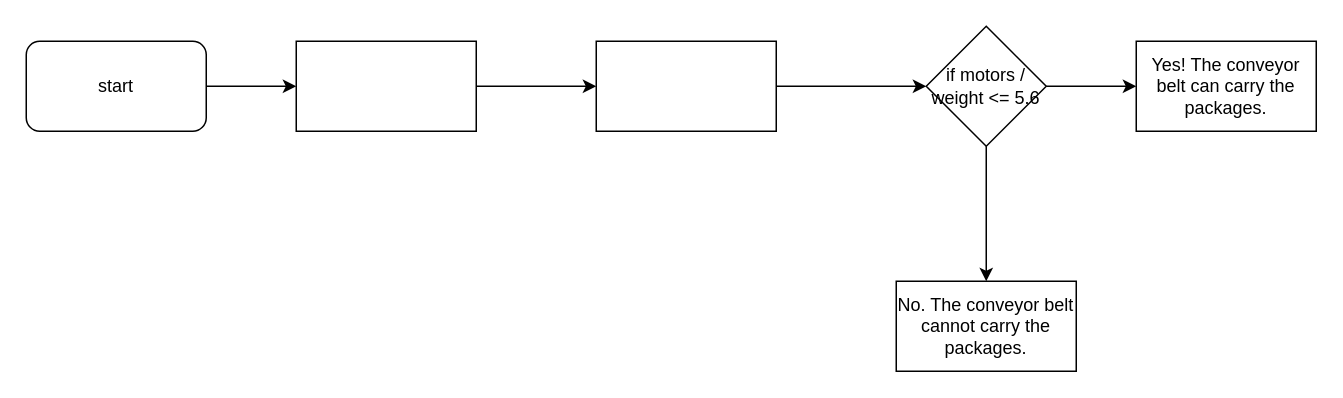
This 1343x398 diagram has some shape labels left out. Each missing label, with the box of its shape:
ask for motor amount: (295, 40, 476, 131)
ask for package weight: (595, 40, 776, 131)
